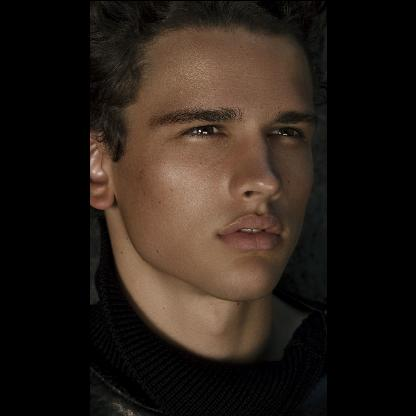Male: (89, 25, 315, 297)
